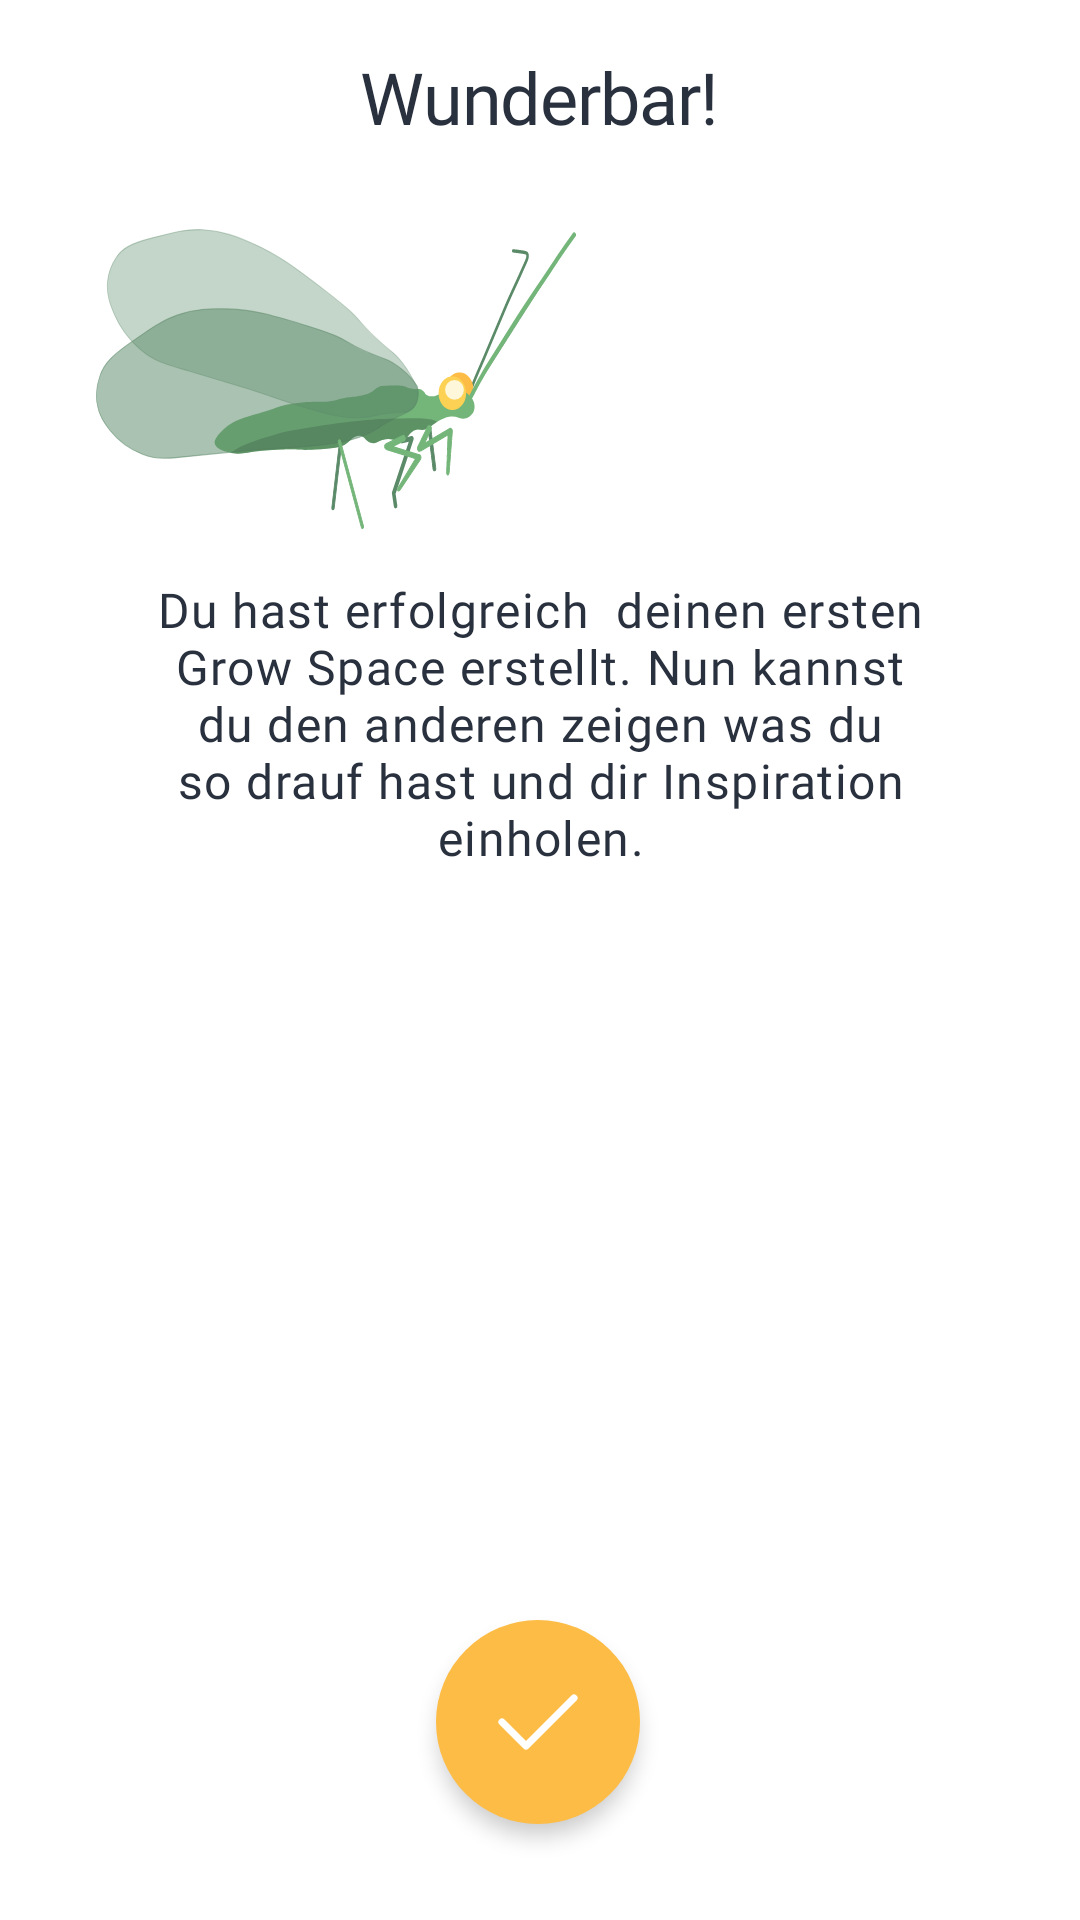

Icons on this 1080*1920 Android screen, each with its box as (x1=x1, y1=y1, x2=x2, y2=y2):
mark: (x1=436, y1=1620, x2=640, y2=1824)
